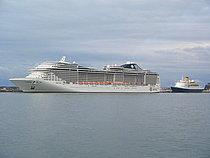Ship: (5, 56, 167, 97)
